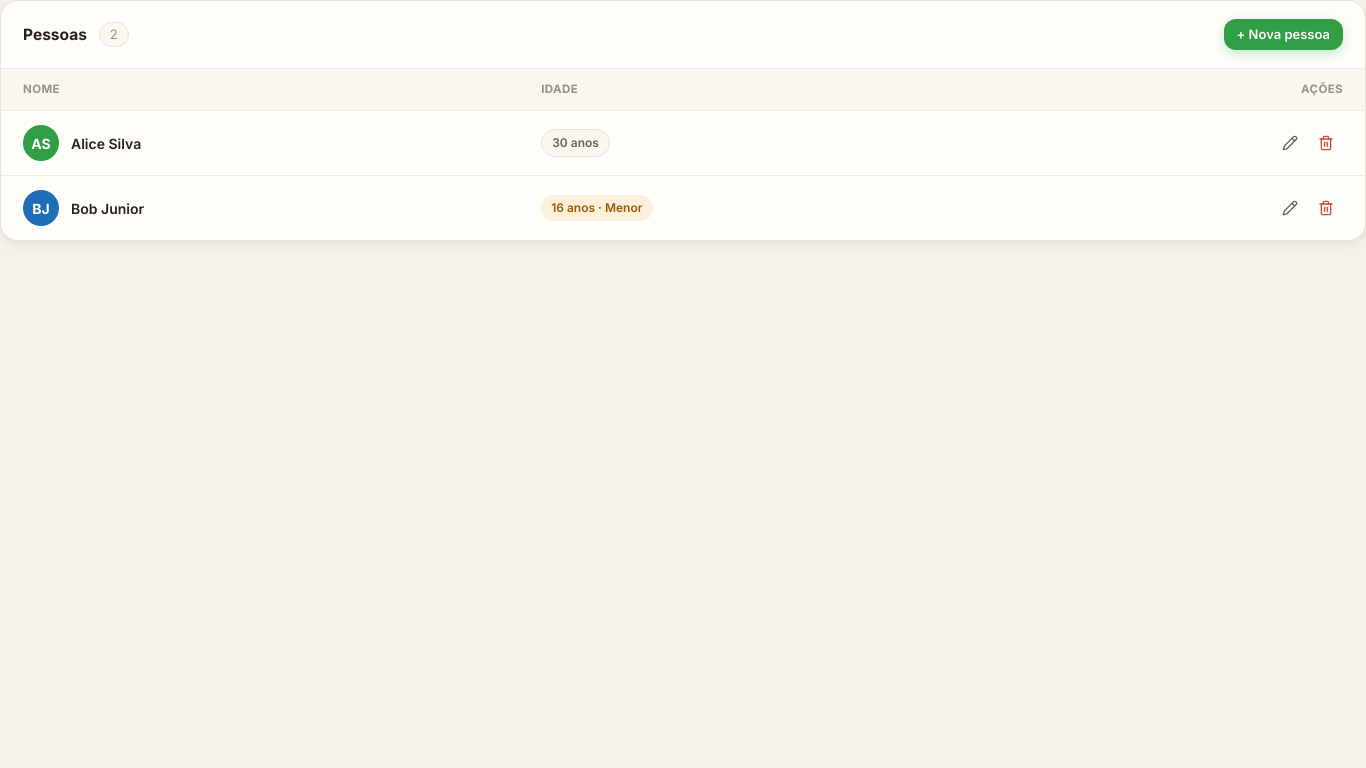
Test: PeoplePage › opens modal when "Nova pessoa" button clicked
The image size is (1366, 768).
Expected: the text "Alice Silva" is shown, left=71, top=133, right=141, bottom=154
Click the button "+ Nova pessoa" at (1283, 34), box left=1224, top=19, right=1343, bottom=50
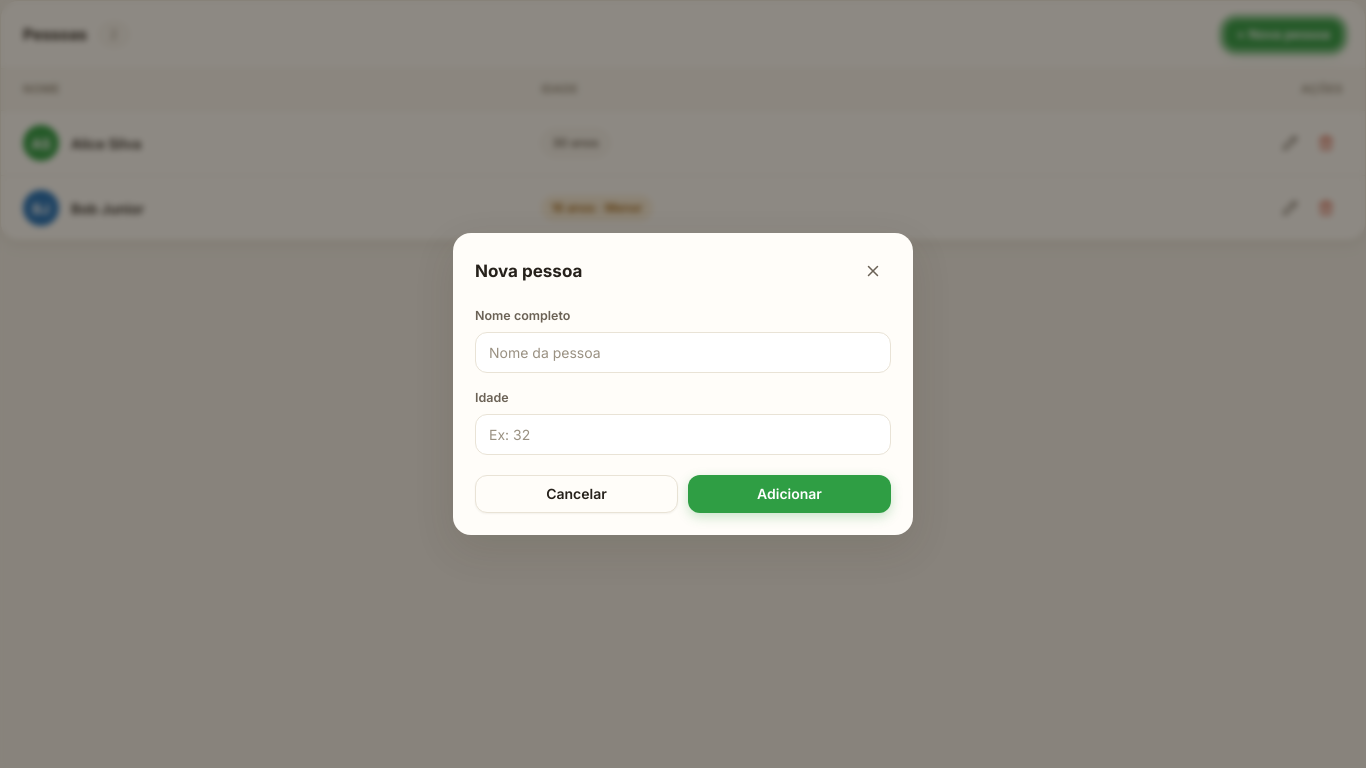
Now the text "Nova pessoa" is shown, box left=475, top=258, right=582, bottom=284
